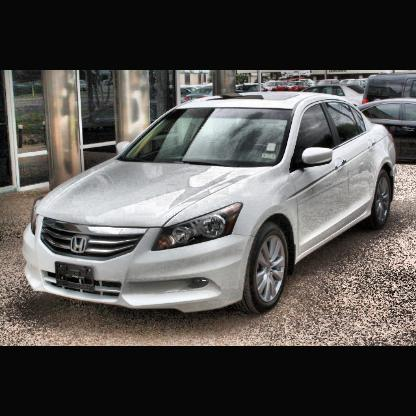Honda Accord Sedan 2012: (25, 93, 396, 314)
